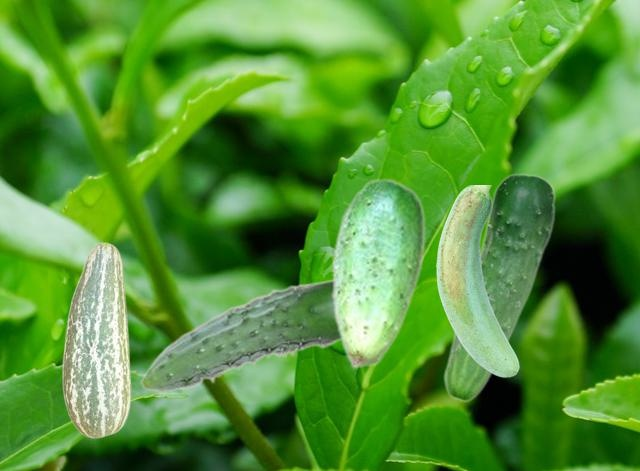cucumber: (442, 173, 555, 401), (140, 278, 339, 391), (331, 177, 424, 368), (436, 185, 518, 376), (62, 242, 130, 437)
